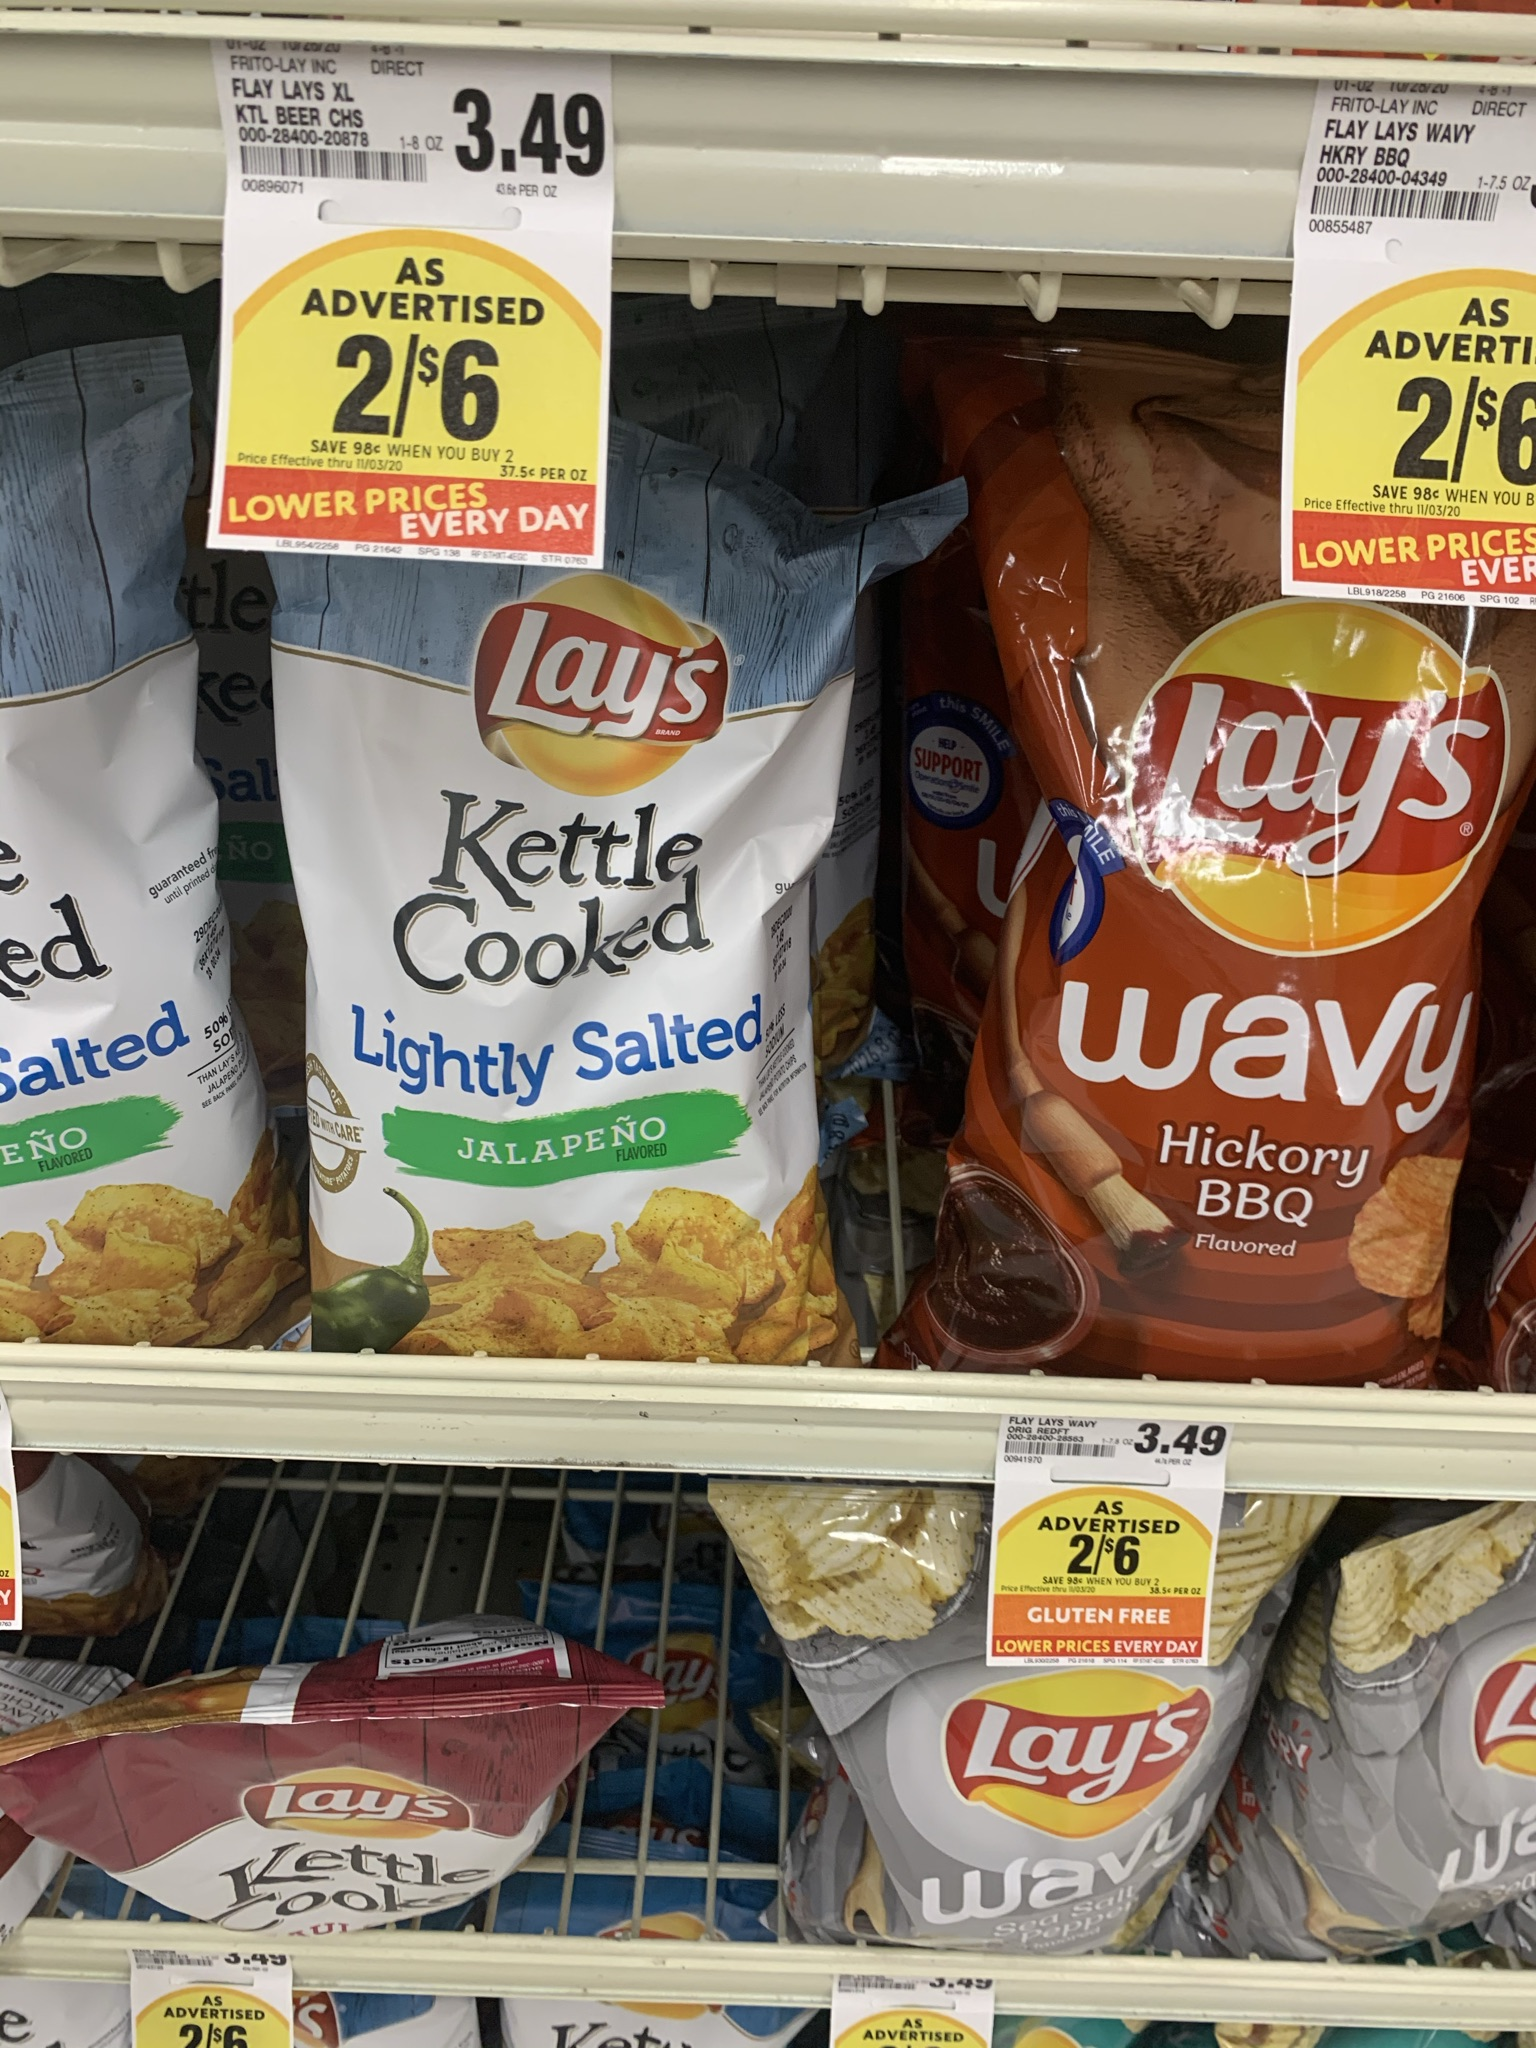lays: (298, 426, 942, 1380), (966, 329, 1444, 1379), (737, 1501, 1192, 1969), (65, 1642, 532, 1914), (1352, 1550, 1536, 1950)
turbo flame chips: (292, 452, 844, 1355)
